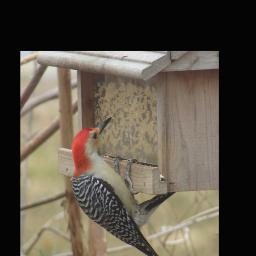Woodpecker: (66, 116, 169, 254)
